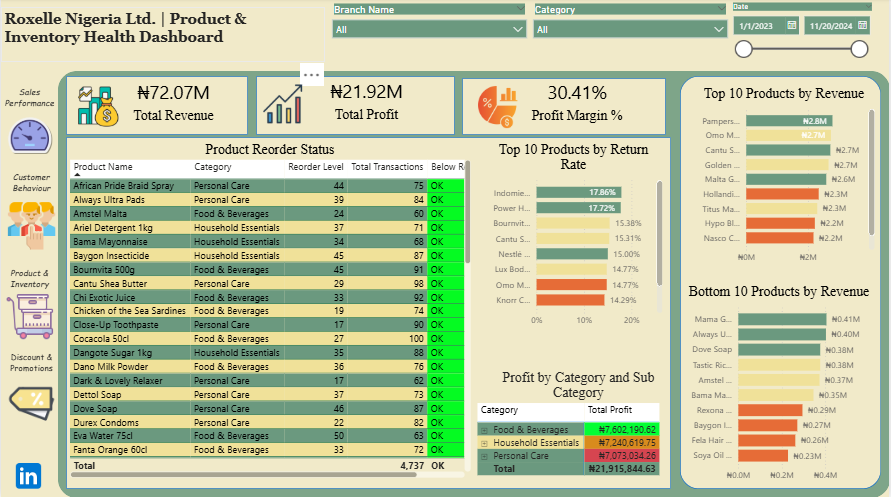

Layout of this report page (visuals, bound fields, positions):
{"tool":"powerbi","page":{"name":"Product & Inventory Health","canvas":[1280,720],"ordinal":2},"visuals":[{"type":"shape","box":[82.1,105.1,1198.1,614.9],"z":0},{"type":"shape","box":[977.8,112.3,289.4,594.7],"z":1000},{"type":"shape","box":[93.6,200.2,871.2,506.9],"z":2000},{"type":"shape","box":[93.6,112.3,262.1,85],"z":3000},{"type":"slicer","fields":{"Values":["branches.Branch Name"]},"box":[466.6,2.9,301,90.7],"z":4000},{"type":"slicer","fields":{"Values":["date.Date"]},"box":[1041.1,1.4,226.1,92.2],"z":5000},{"type":"slicer","fields":{"Values":["products.Category"]},"box":[756,2.9,301,90.7],"z":6000},{"type":"shape","box":[366.5,112.3,286.6,85],"z":7000},{"type":"shape","box":[663.8,115.2,293.8,82.1],"z":8000},{"type":"card","title":"Total Revenue","fields":{"Values":["Measure.Total Revenue"]},"box":[141.1,105.1,214.6,85],"z":9000},{"type":"card","title":"Total Profit","fields":{"Values":["Measure.Total Profit"]},"box":[403.2,102.2,246.2,87.8],"z":10000},{"type":"card","title":"Profit Margin","fields":{"Values":["Measure.Profit Margin %"]},"box":[715.7,105.1,227.5,85],"z":11000},{"type":"textbox","box":[0,13,466.6,79.2],"z":12000},{"type":"image","box":[105.1,122.4,70.6,67.7],"z":13000},{"type":"image","box":[355.7,119.5,100.8,66.2],"z":14000},{"type":"image","box":[676.8,119.5,77.8,74.9],"z":15000},{"type":"clusteredBarChart","title":"Top 10 Products by Revenue","fields":{"Category":["products.Product Name"],"Y":["Measure.Total Revenue"]},"box":[992.2,125.3,270.7,266.4],"z":16000},{"type":"clusteredBarChart","title":"Bottom 10 Products by Revenue","fields":{"Category":["products.Product Name"],"Y":["Measure.Total Revenue"]},"box":[977.8,410.4,285.1,295.2],"z":17000},{"type":"clusteredBarChart","title":"Top 10 Products by Return Rate","fields":{"Category":["products.Product Name"],"Y":["Measure.Return Rate %"]},"box":[691.2,205.9,266.4,276.5],"z":18000},{"type":"tableEx","title":"Product Reorder Status","fields":{"Values":["products.Product Name","products.Category","products.Reorder Level","Measure.Total Transactions","Measure.Below Reorder Level"]},"box":[93.6,205.9,587.5,489.6],"z":19000},{"type":"pivotTable","title":"Profit by Category and Sub Category","fields":{"Rows":["products.Category","products.Sub Category"],"Values":["Measure.Total Profit"]},"box":[681.1,534.2,301,185.8],"z":20000},{"type":"image","title":"Sales Performance","box":[0,126.7,82.1,110.9],"z":20001},{"type":"image","title":"Customer Behaviour","box":[0,249.6,87.8,125.3],"z":20002},{"type":"image","title":"Product & Inventory","box":[0,386.9,82.1,109.4],"z":20003},{"type":"image","title":"Discount & Promotions","box":[0,508.3,87.8,119.5],"z":20004},{"type":"image","box":[10.1,656.6,59,63.4],"z":20005}]}

Visuals, with their boxes on the page's 1280x720 design canvas (x1, y1, x2, y2). These are canvas units, not pixel positions in the 891x497 screenshot, which may show the page scaled, cropped or inside an application window:
shape: crop(82, 105, 1280, 720)
shape: crop(978, 112, 1267, 707)
shape: crop(94, 200, 965, 707)
shape: crop(94, 112, 356, 197)
slicer - branches.Branch Name: crop(467, 3, 768, 94)
slicer - date.Date: crop(1041, 1, 1267, 94)
slicer - products.Category: crop(756, 3, 1057, 94)
shape: crop(366, 112, 653, 197)
shape: crop(664, 115, 958, 197)
"Total Revenue" card: crop(141, 105, 356, 190)
"Total Profit" card: crop(403, 102, 649, 190)
"Profit Margin" card: crop(716, 105, 943, 190)
textbox: crop(0, 13, 467, 92)
image: crop(105, 122, 176, 190)
image: crop(356, 120, 456, 186)
image: crop(677, 120, 755, 194)
"Top 10 Products by Revenue" clusteredBarChart: crop(992, 125, 1263, 392)
"Bottom 10 Products by Revenue" clusteredBarChart: crop(978, 410, 1263, 706)
"Top 10 Products by Return Rate" clusteredBarChart: crop(691, 206, 958, 482)
"Product Reorder Status" tableEx: crop(94, 206, 681, 696)
"Profit by Category and Sub Category" pivotTable: crop(681, 534, 982, 720)
"Sales Performance" image: crop(0, 127, 82, 238)
"Customer Behaviour" image: crop(0, 250, 88, 375)
"Product & Inventory" image: crop(0, 387, 82, 496)
"Discount & Promotions" image: crop(0, 508, 88, 628)
image: crop(10, 657, 69, 720)
